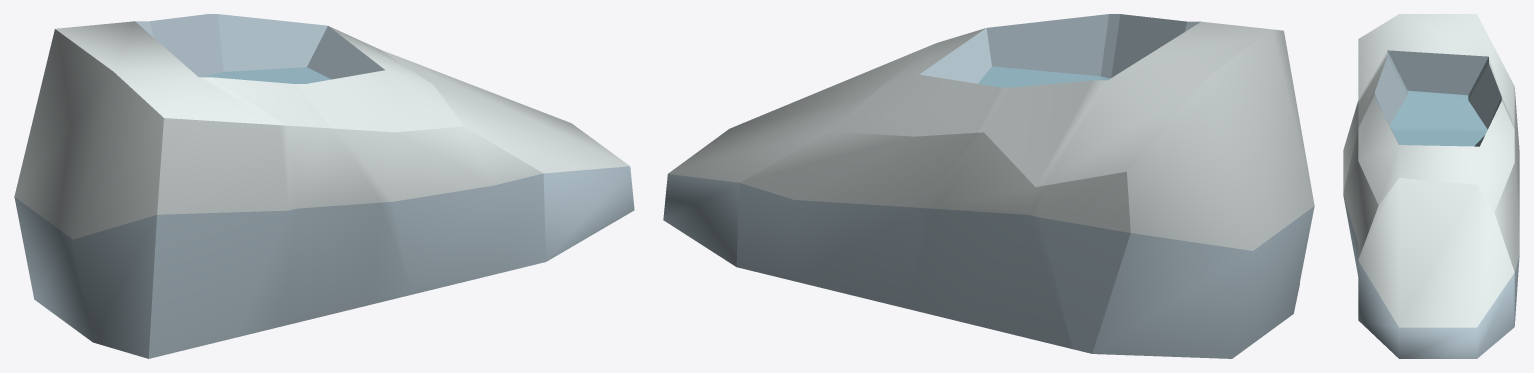
Rendered from shoe_white.fbx.
3 views of the same model, side by side, from view 1: azimuth 30°, elevation 25°; view 2: azimuth 150°, elevation 25°; view 3: azimuth 270°, elevation 25° (orthographic). The views are drawn at different scales.
Visible parts, largest first — view 1: pCube23; view 2: pCube23; view 3: pCube23.
Boxes of the visible parts, x1,y1,x2,y2 form: pCube23: [14, 14, 634, 358]; pCube23: [663, 14, 1314, 358]; pCube23: [1343, 14, 1519, 358].
Size of the model in its own units: 1.18 by 0.5354 by 0.4855.
